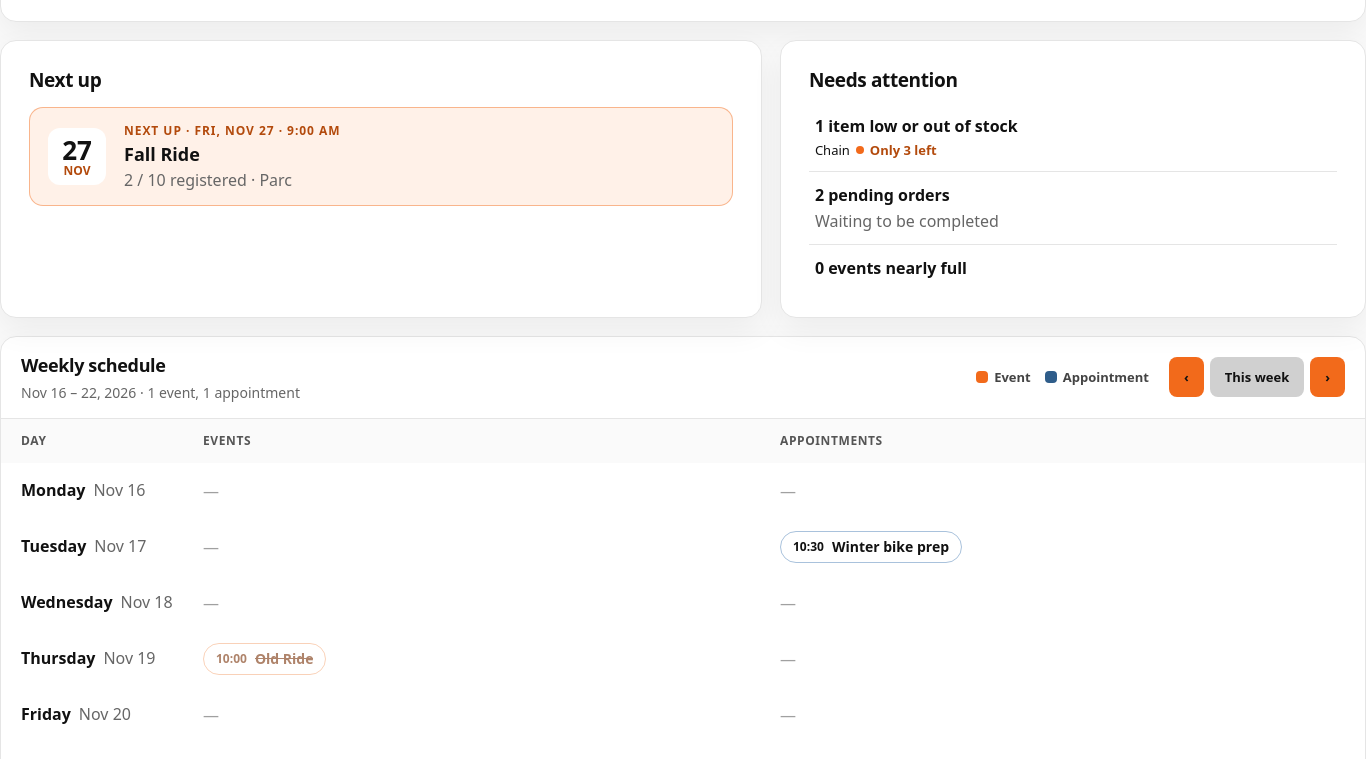
Test: dashboard › shows this month's figures and a weekly table of events and appointments
(page scrolled)
Expected: the text "Nov 16 – 22, 2026 · 1 event, 1 appointment" is shown, [21, 383, 300, 402]
Click the button named "Next week": {"x": 1328, "y": 378} [1310, 358, 1345, 398]
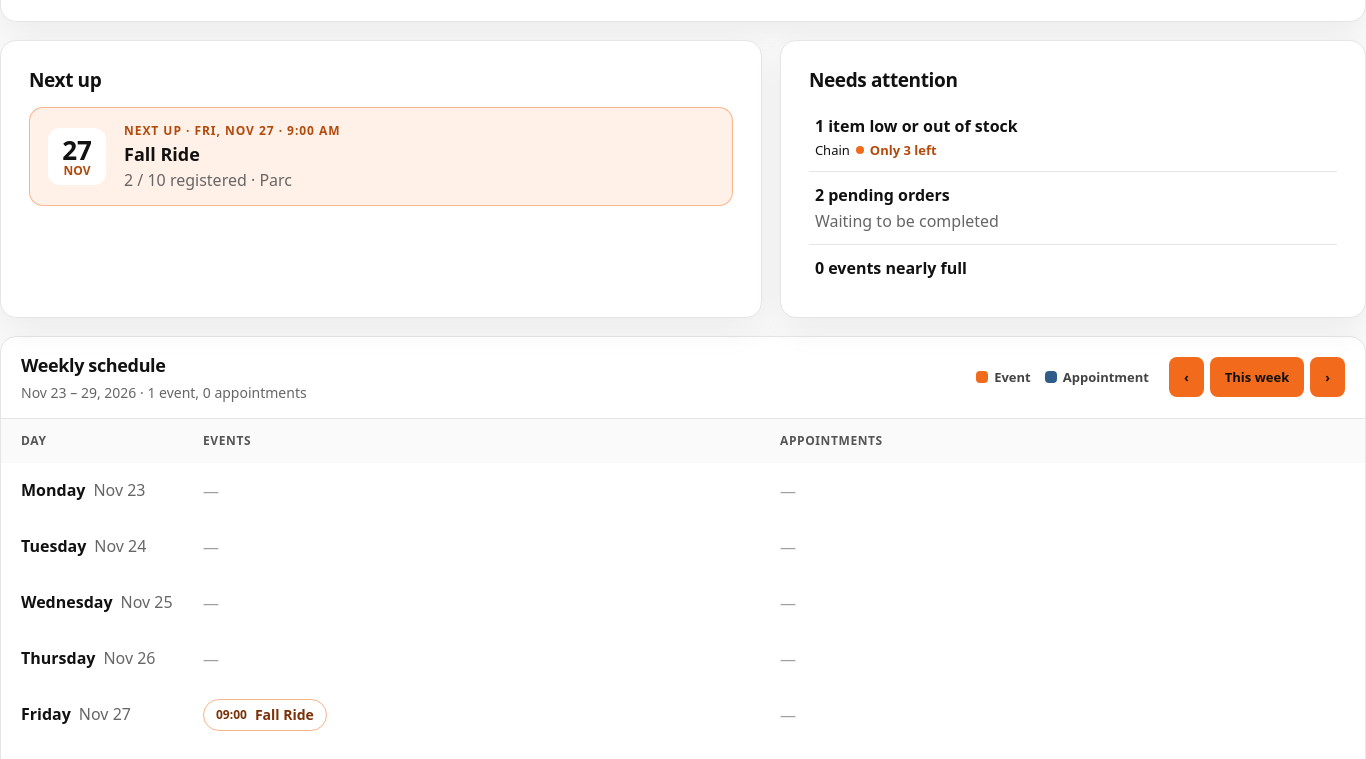
Expected: the text "Nov 23 – 29, 2026 · 1 event, 0 appointments" is shown, [21, 383, 307, 402]
Click the button "This week": {"x": 1257, "y": 378} [1210, 358, 1304, 398]
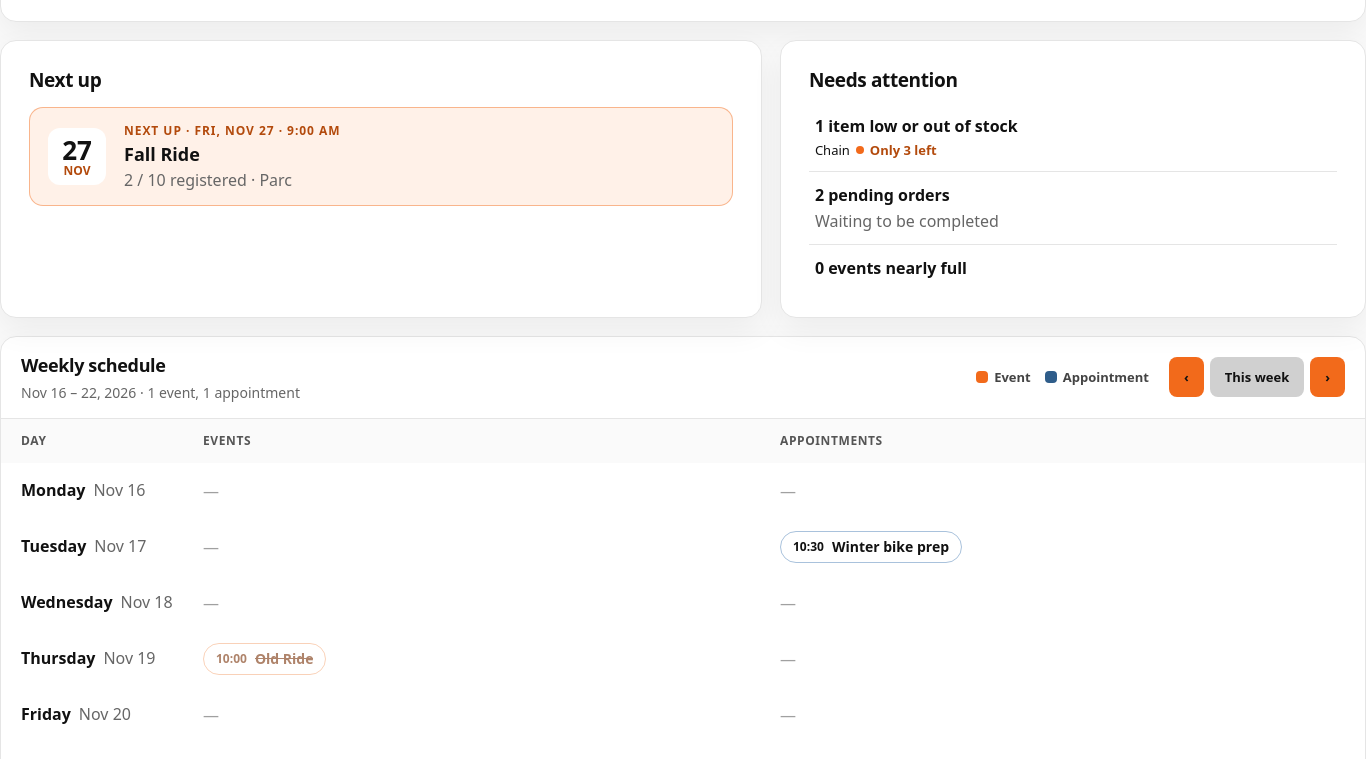
Expected: the text "Nov 16 – 22, 2026 · 1 event, 1 appointment" is shown, [21, 383, 300, 402]
